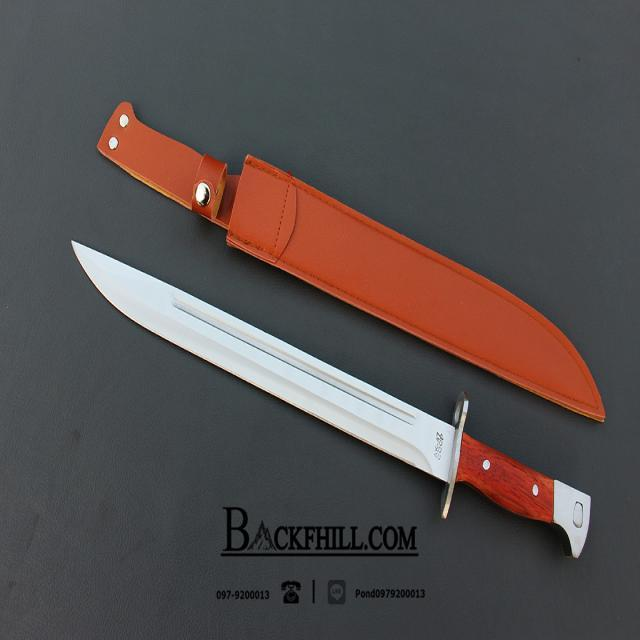long sword: (70, 238, 591, 564)
